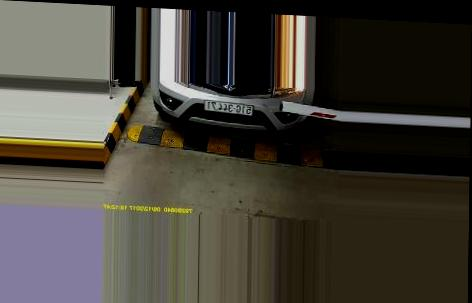License_Plate: (204, 101, 254, 114)
